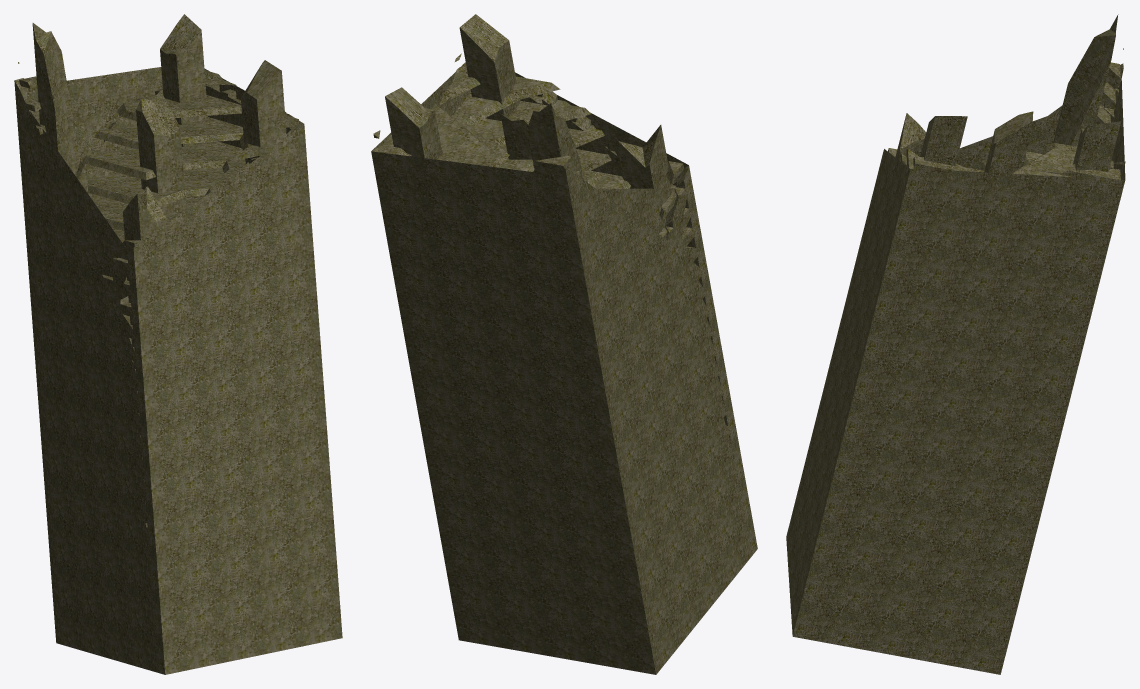
File: Building_1.fbx
3 renders of one model, left to right at view 1: azimuth 30°, elevation 25°; view 2: azimuth 150°, elevation 25°; view 3: azimuth 270°, elevation 25°, orthographic. The views are drawn at different scales.
Parts seen in each view (by area): view 1: Cube.014; view 2: Cube.014; view 3: Cube.014.
Boxes of the visible parts, x1,y1,x2,y2 form: Cube.014: [14, 14, 342, 674]; Cube.014: [371, 14, 757, 674]; Cube.014: [786, 14, 1125, 674].
Bounding box in the file's own units: 1326 × 3530 × 1843.
1 material, 1 textured.
